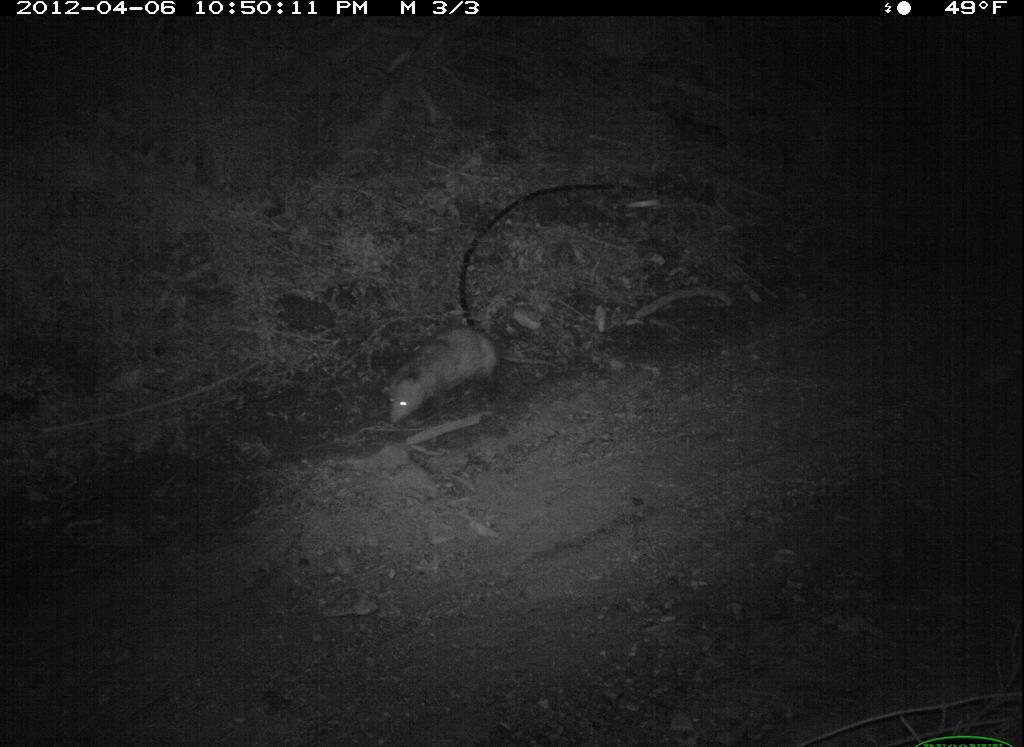opossum: (367, 300, 511, 457)
